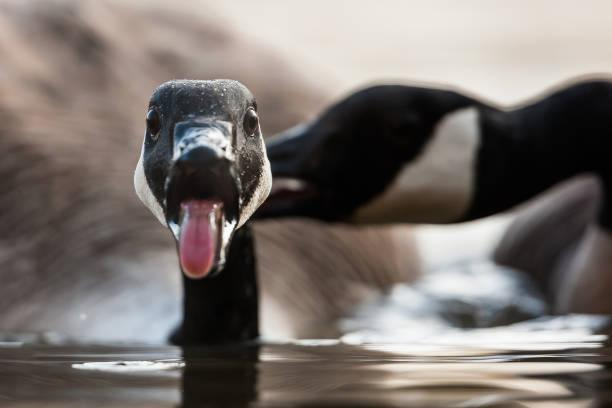Canadian-Goose: (137, 78, 278, 361)
